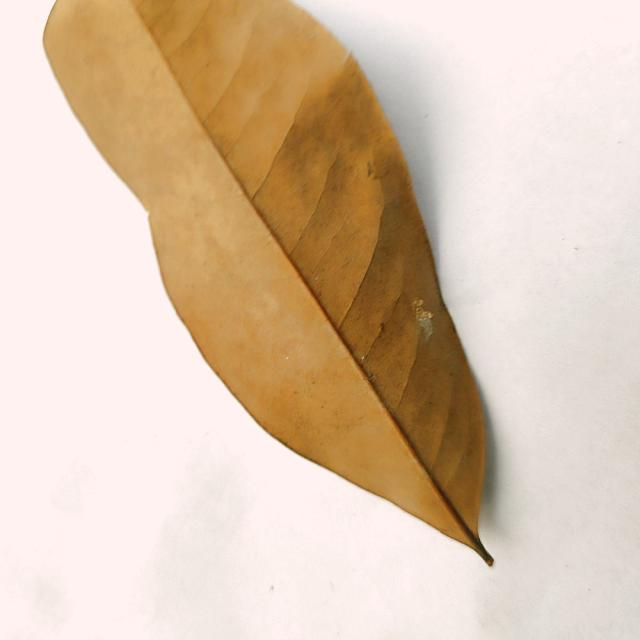Dry_Leaf-Lychee: (42, 0, 494, 566)
